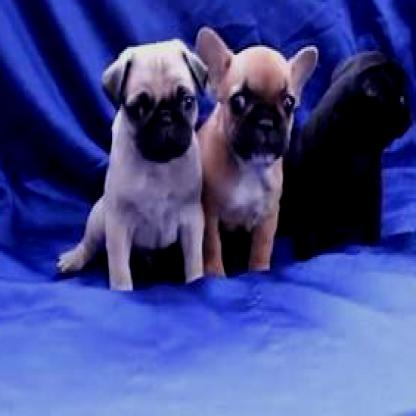dog: (56, 39, 208, 285), (193, 27, 320, 276), (292, 55, 415, 247)
